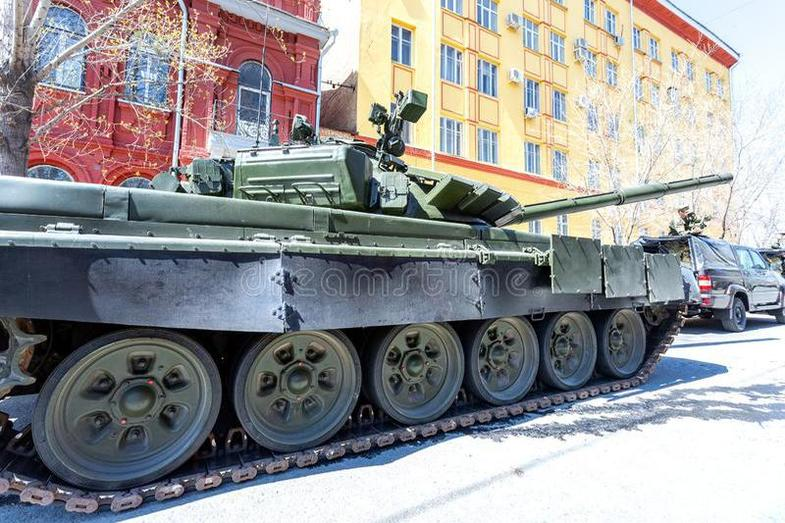t72: (8, 136, 723, 492)
